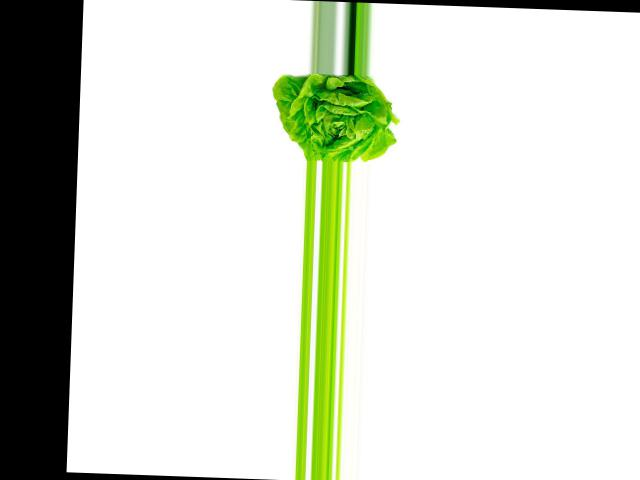lettuce: (267, 71, 395, 163)
